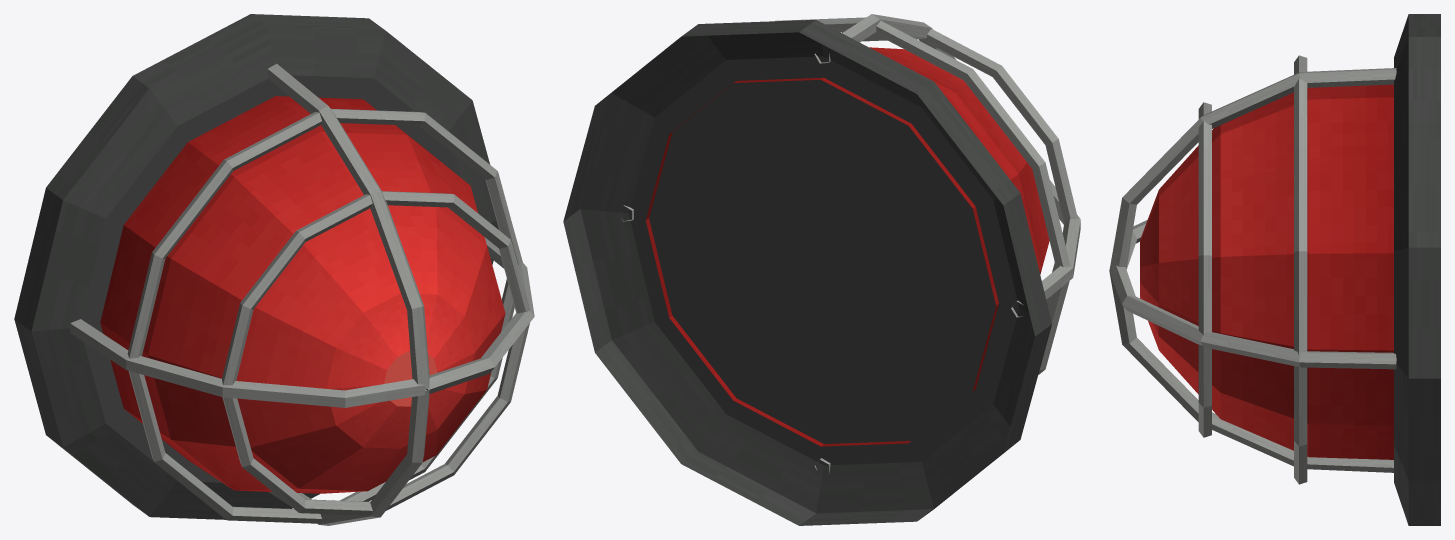
File: red_light.glb
The picture shows the model from 3 angles, left to right: view 1: azimuth 30°, elevation 25°; view 2: azimuth 150°, elevation 25°; view 3: azimuth 270°, elevation 25°; orthographic projection. The views are drawn at different scales.
Visible parts, largest first — view 1: red_glass, light_base, cage_hoop_low, cage_hoop_high, cage_arc_2, cage_arc_1, cage_arc_3, cage_arc_0; view 2: light_base, red_glass, cage_hoop_low, cage_hoop_high, cage_arc_2, cage_arc_1; view 3: red_glass, light_base, cage_arc_1, cage_hoop_low, cage_arc_0, cage_arc_3, cage_hoop_high.
Boxes of the visible parts, <box> form: red_glass: <box>100,96,505,493</box>; light_base: <box>14,14,498,519</box>; cage_hoop_low: <box>127,108,522,523</box>; cage_hoop_high: <box>222,191,530,515</box>; cage_arc_2: <box>70,319,424,407</box>; cage_arc_1: <box>267,63,429,388</box>; cage_arc_3: <box>268,389,429,525</box>; cage_arc_0: <box>425,237,534,393</box>; light_base: <box>563,19,1051,525</box>; red_glass: <box>645,47,1049,446</box>; cage_hoop_low: <box>775,17,1070,374</box>; cage_hoop_high: <box>842,29,1077,306</box>; cage_arc_2: <box>1011,180,1080,317</box>; cage_arc_1: <box>814,14,955,63</box>; red_glass: <box>1140,84,1393,459</box>; light_base: <box>1394,14,1440,525</box>; cage_arc_1: <box>1109,68,1396,269</box>; cage_hoop_low: <box>1294,55,1307,484</box>; cage_arc_0: <box>1109,265,1396,369</box>; cage_arc_3: <box>1109,272,1393,472</box>; cage_hoop_high: <box>1198,102,1211,437</box>.
Size of the model in its own units: 0.2188 by 0.2188 by 0.1412.
1 material, 1 textured.
